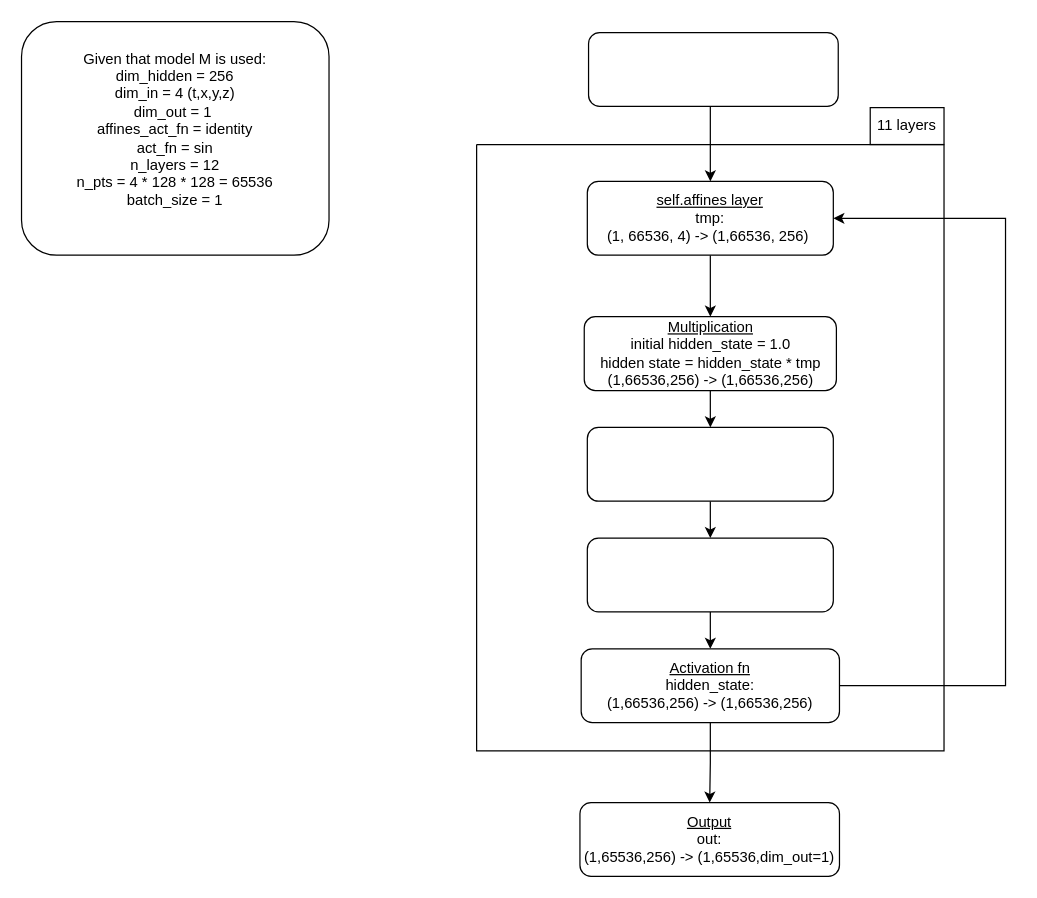
The diagram is 1037 pixels wide and 898 high, and some of its shapes have lost their labels. The box of each missing label's shape, as (x1, y1, x2, y2) in pixels:
Dense layers hidden_state: (1,66536,256) -> (1,66536,256): (586, 426, 833, 501)
Input x: (batch_size=1, 65536, dim_in=4): (587, 31, 838, 106)
Scale and Shift scale*hidden_state+shift: (1,66536,256) -> (1,66536,256): (586, 537, 833, 612)
